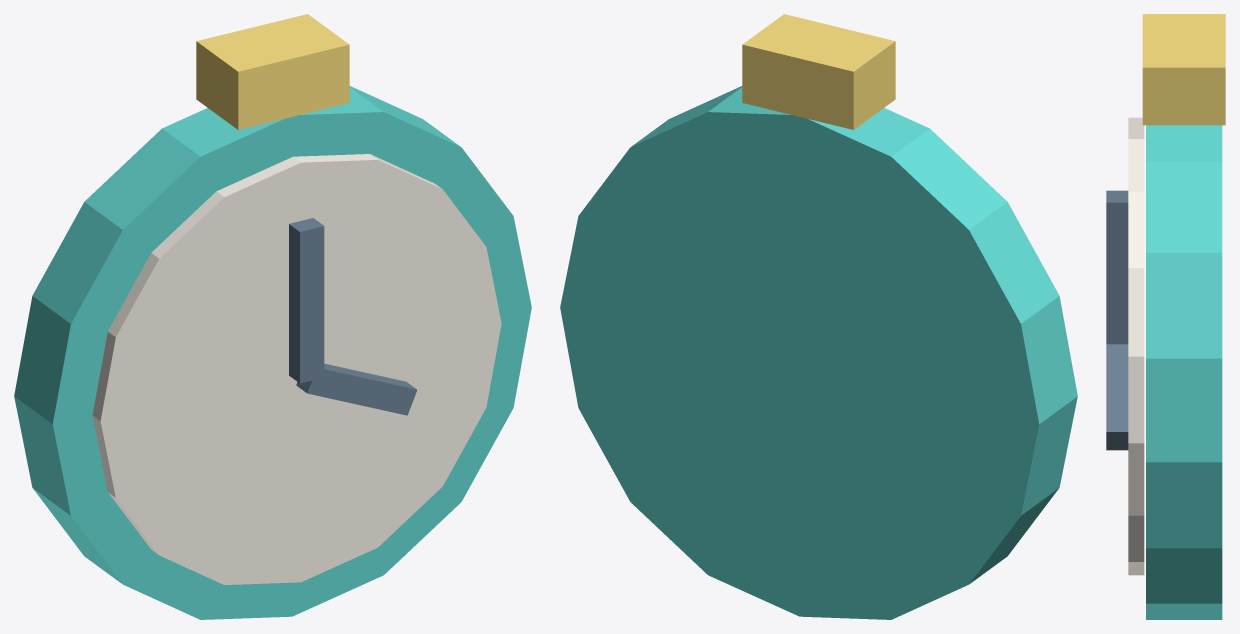
The model's file is 29_slow_clock.glb.
3 renders of one model, left to right at view 1: azimuth 30°, elevation 25°; view 2: azimuth 150°, elevation 25°; view 3: azimuth 270°, elevation 25°, orthographic.
Visible parts, largest first — view 1: 29_slow_clock; view 2: 29_slow_clock; view 3: 29_slow_clock.
Boxes of the visible parts, box(x1,y1,x2,y2) form: 29_slow_clock: box(14, 14, 531, 619); 29_slow_clock: box(560, 14, 1077, 619); 29_slow_clock: box(1106, 14, 1225, 619).
Size of the model in its own units: 0.86 by 0.96 by 0.187.
